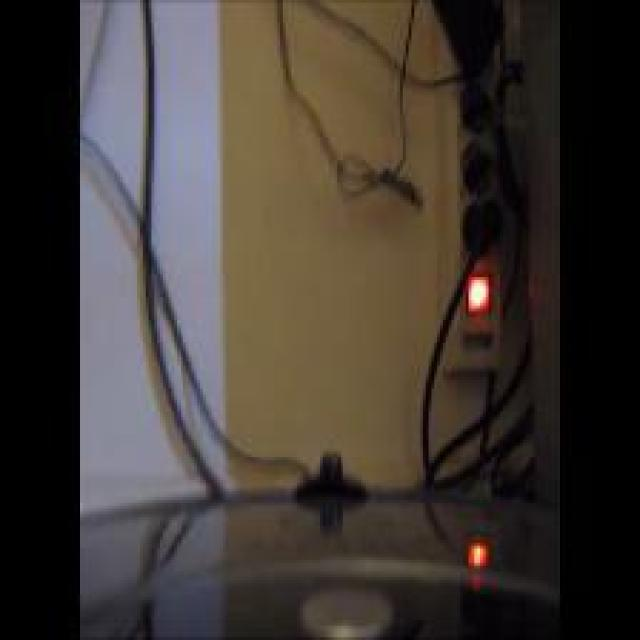other: (459, 267, 507, 333), (454, 527, 493, 571)
